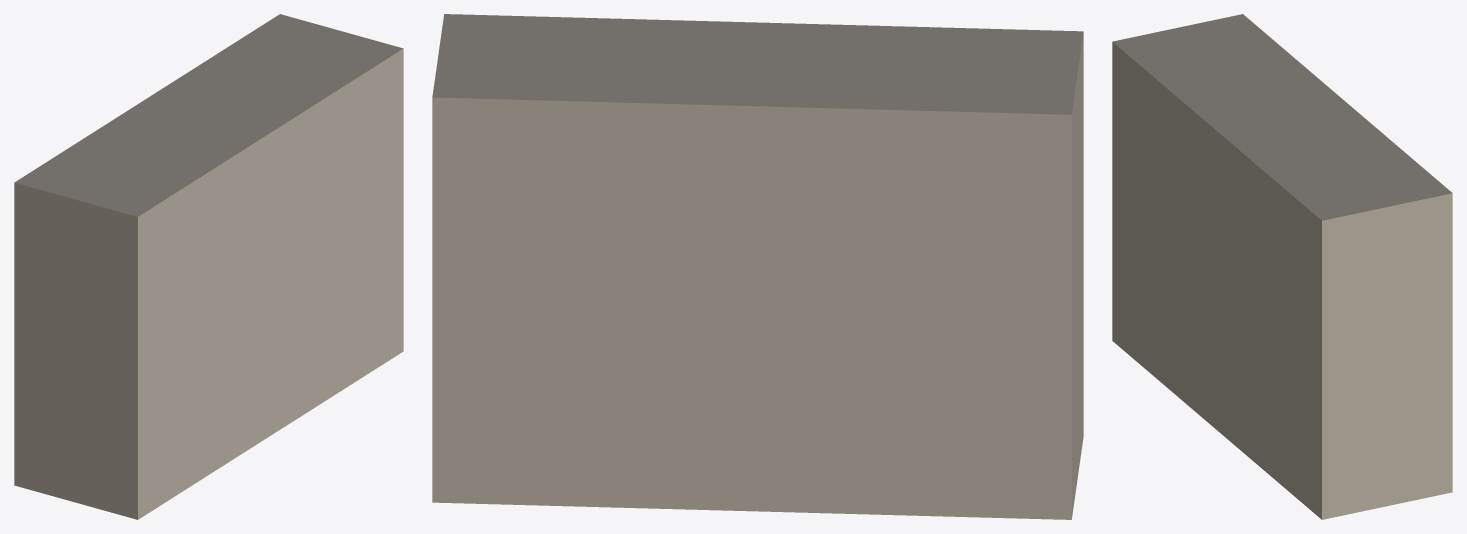
3 renders of one model, left to right at view 1: azimuth 30°, elevation 25°; view 2: azimuth 150°, elevation 25°; view 3: azimuth 270°, elevation 25°, orthographic. The views are drawn at different scales.
Visible parts, largest first — view 1: HP-w446934331; view 2: HP-w446934331; view 3: HP-w446934331.
Part boxes in pixels (x1,y1,x2,y2): HP-w446934331: [14, 14, 403, 519]; HP-w446934331: [432, 14, 1083, 519]; HP-w446934331: [1112, 14, 1452, 519].
Bounding box in the file's own units: 26.69 × 18 × 18.57.
